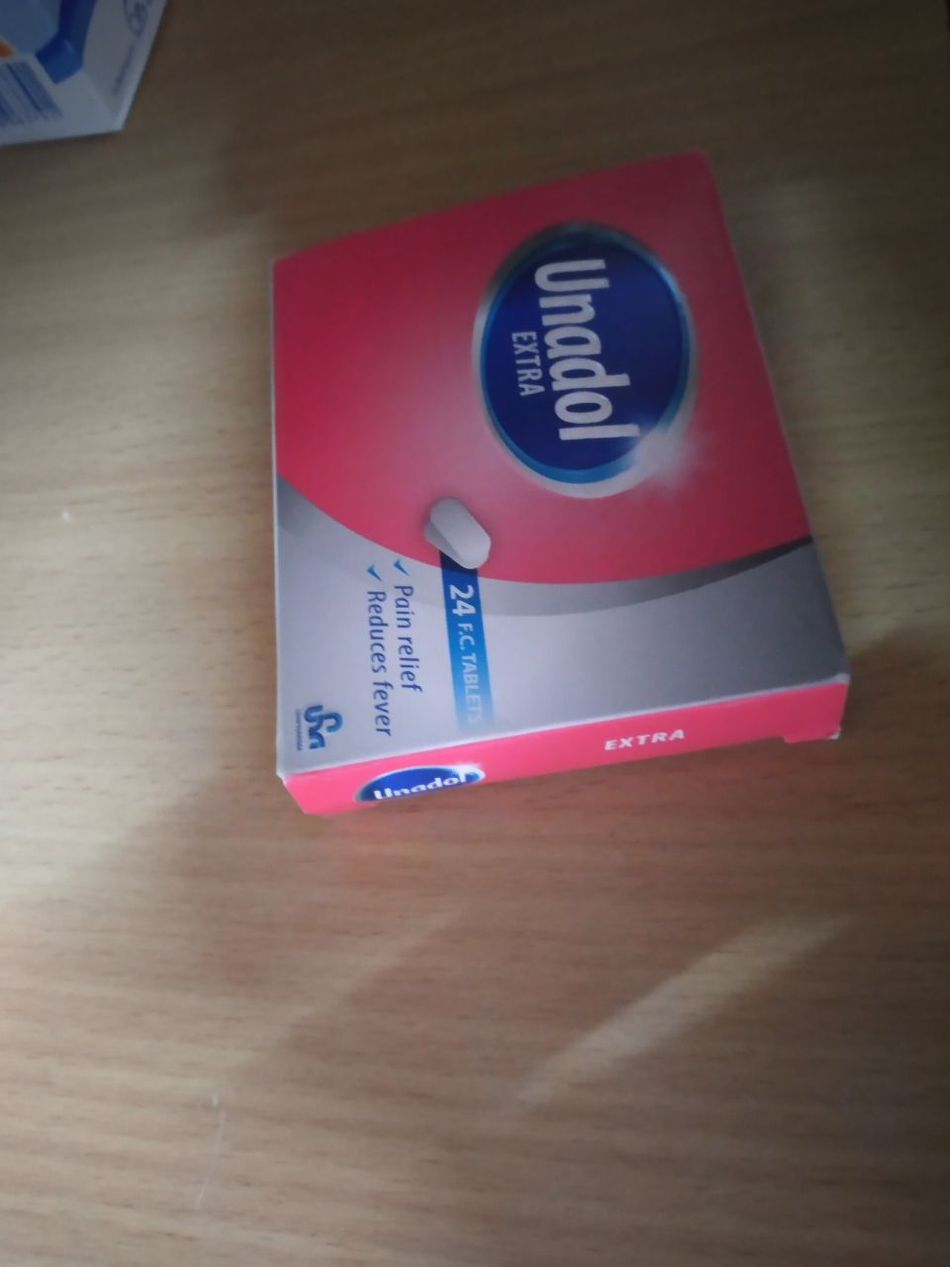Medicine: (234, 152, 864, 835)
